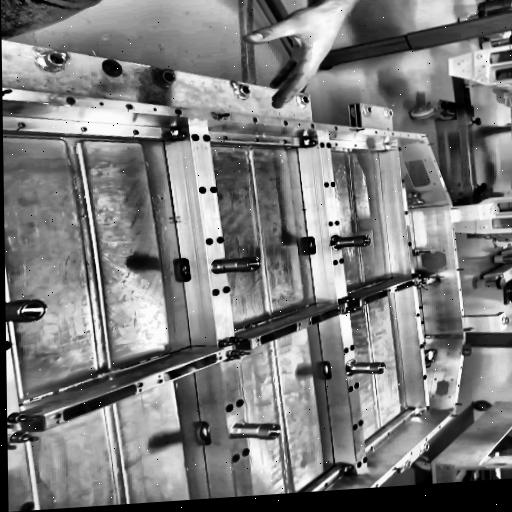b_casing: (1, 38, 468, 512)
